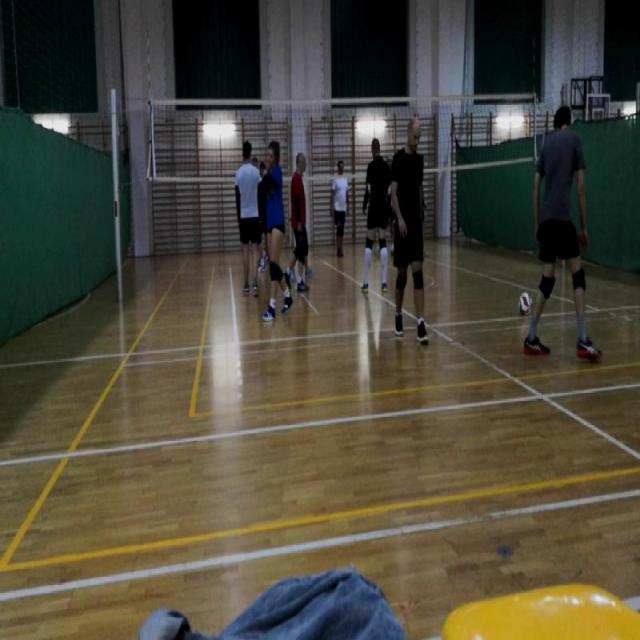volleyball: (518, 292, 532, 314)
